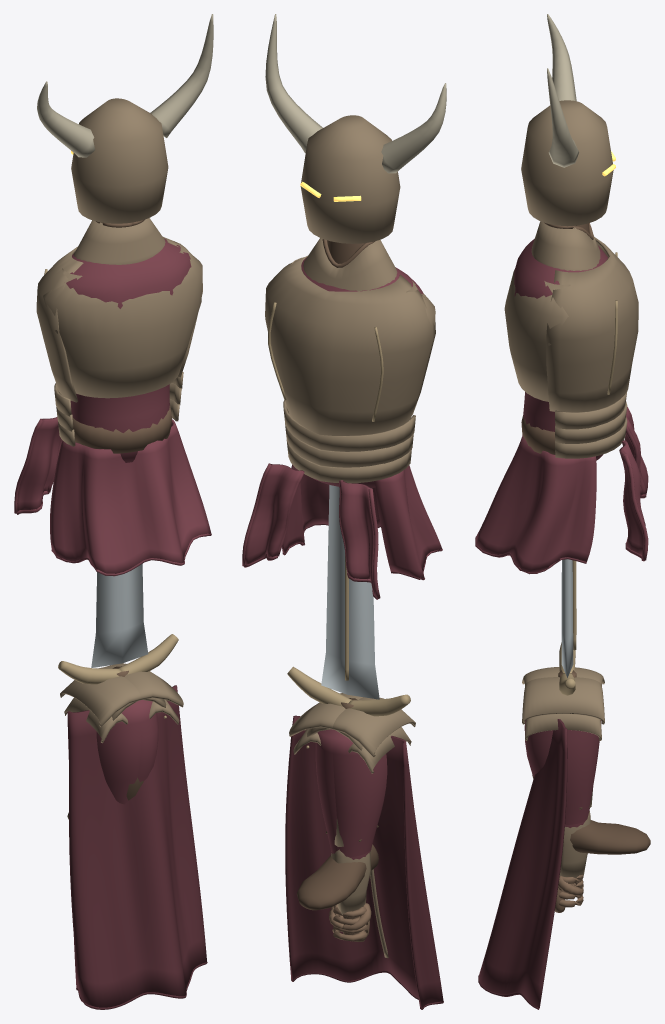
The model's file is elite.glb.
3 renders of one model, left to right at view 1: azimuth 30°, elevation 25°; view 2: azimuth 150°, elevation 25°; view 3: azimuth 270°, elevation 25°, orthographic. The views are drawn at different scales.
Visible parts, largest first — view 1: Cape__wine, Body__bronze, Body__wine, Weapon__silver, Body__bone, LegL__wine, ArmL__bronze, Body__leather, Weapon__gold, ArmR__bronze, LegR__wine; view 2: Body__bronze, Cape__wine, Body__wine, Weapon__silver, LegL__wine, Body__bone, ArmL__bronze, KneeL__leather, Weapon__gold, LegR__wine, ArmR__bronze, Body__leather (+3 smaller); view 3: Body__bronze, Body__wine, Cape__wine, ArmR__bronze, LegR__wine, Body__bone, KneeL__leather, ArmL__bronze, Weapon__silver, Body__leather, Weapon__gold, ArmR__leather (+1 smaller).
Boxes of the visible parts, x1,y1,x2,y2 form: Cape__wine: (67, 685, 207, 1009); Body__bronze: (36, 98, 202, 446); Body__wine: (14, 238, 211, 576); Weapon__silver: (91, 564, 148, 667); Body__bone: (37, 14, 213, 157); LegL__wine: (96, 700, 149, 804); ArmL__bronze: (60, 667, 166, 743); Body__leather: (72, 219, 171, 453); Weapon__gold: (58, 634, 178, 684); ArmR__bronze: (105, 663, 183, 724); LegR__wine: (137, 701, 158, 781); Body__bronze: (265, 115, 435, 483); Cape__wine: (285, 715, 443, 1009); Body__wine: (242, 257, 442, 599); Weapon__silver: (321, 485, 379, 699); LegL__wine: (319, 729, 387, 856); Body__bone: (265, 14, 446, 173); ArmL__bronze: (307, 697, 415, 914); KneeL__leather: (297, 825, 378, 910); Weapon__gold: (287, 553, 410, 716); LegR__wine: (315, 731, 371, 859); ArmR__bronze: (289, 693, 362, 754); Body__leather: (322, 239, 374, 267); Body__bronze: (504, 100, 638, 458); Body__wine: (475, 238, 648, 574); Cape__wine: (478, 719, 567, 1009); ArmR__bronze: (522, 677, 604, 740); LegR__wine: (524, 720, 601, 824); Body__bone: (547, 14, 578, 167); KneeL__leather: (532, 774, 650, 854); ArmL__bronze: (522, 667, 604, 878); Weapon__silver: (561, 559, 573, 677); Body__leather: (521, 222, 593, 454); Weapon__gold: (559, 560, 576, 695); ArmR__leather: (558, 875, 583, 907).
Size of the model in its own units: 0.6084 by 3.17 by 0.5291.
